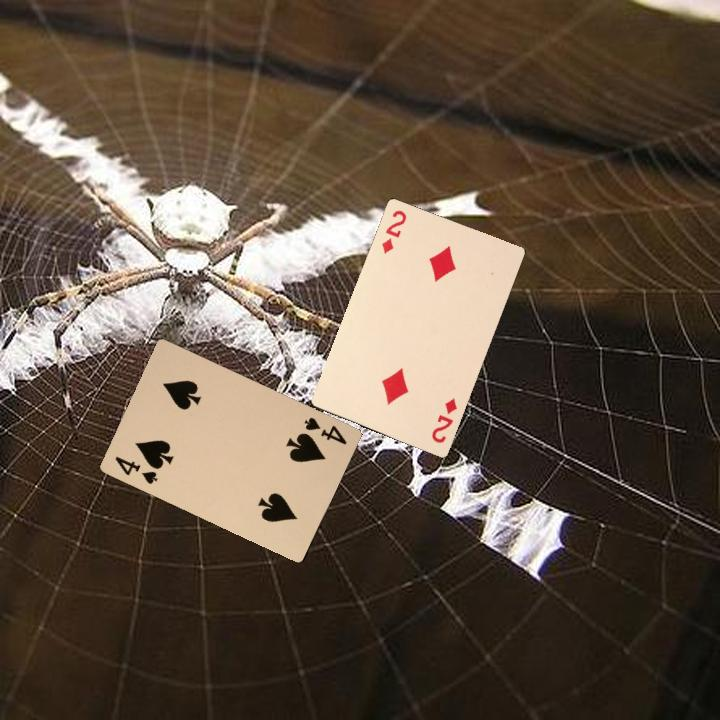2d: (427, 395, 460, 446), (377, 206, 409, 256)
4s: (111, 452, 160, 487), (300, 413, 349, 447)
